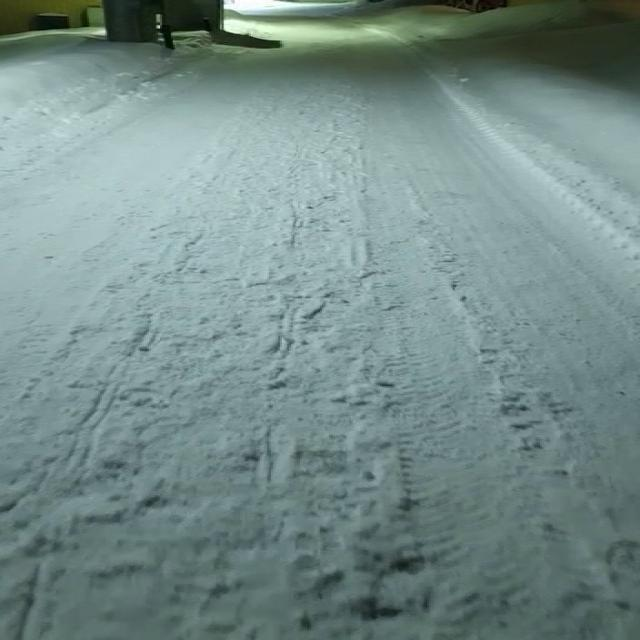path: (0, 0, 640, 640)
